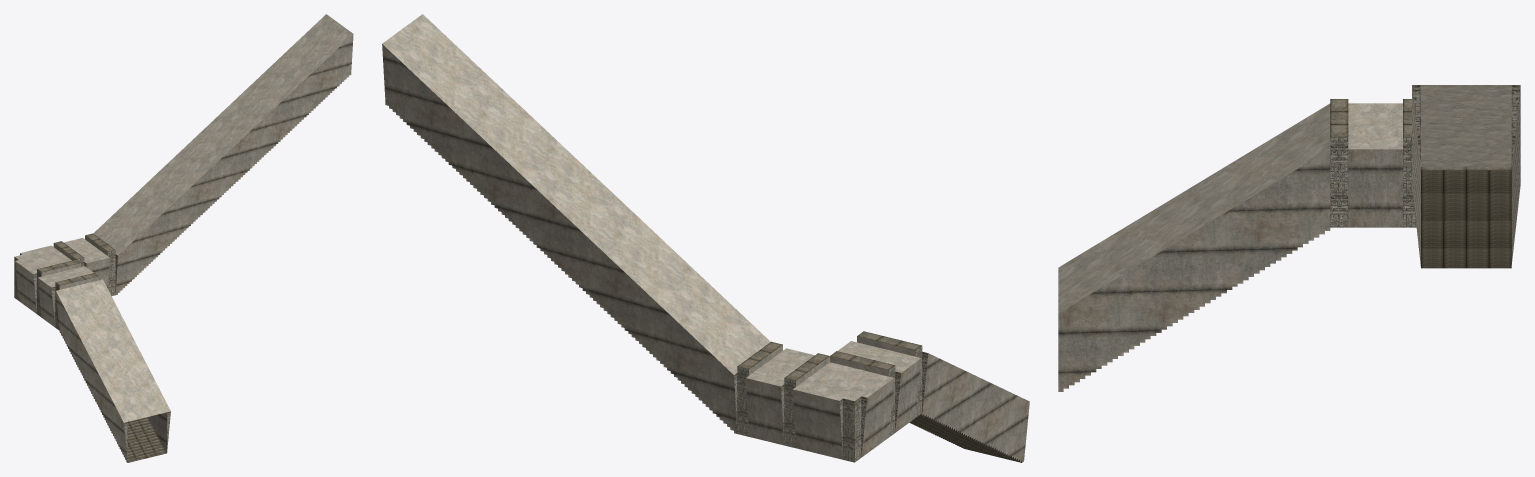
Rendered from thm_yavn_great_massassi_temple_r4_stairs1_mesh_r4.fbx.
3 renders of one model, left to right at view 1: azimuth 30°, elevation 25°; view 2: azimuth 150°, elevation 25°; view 3: azimuth 270°, elevation 25°, orthographic. The views are drawn at different scales.
Parts seen in each view (by area): view 1: mesh_node; view 2: mesh_node; view 3: mesh_node.
Part boxes in pixels (box(x1,y1,x2,y2)): mesh_node: box(14, 14, 353, 462); mesh_node: box(382, 14, 1029, 462); mesh_node: box(1058, 85, 1520, 391).
Bounding box in the file's own units: 40.5 × 35 × 25.5.
